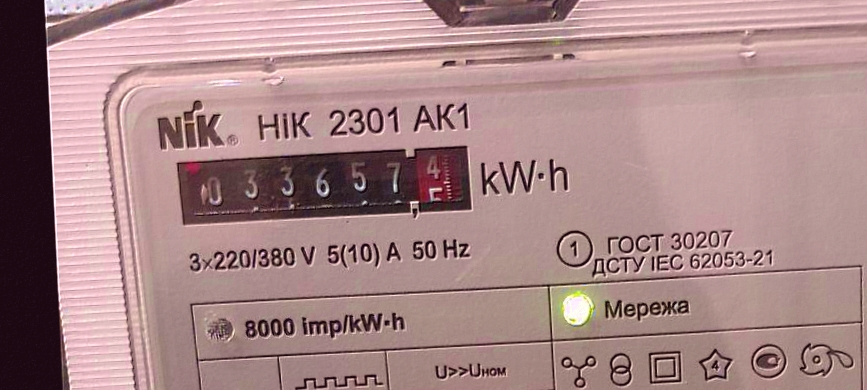0: (203, 172, 226, 210)
3: (241, 166, 261, 202), (277, 164, 296, 200)
4: (423, 152, 444, 183)
5: (347, 158, 370, 195)
6: (311, 165, 332, 201)
7: (384, 159, 403, 196)
screen: (164, 138, 481, 235)
